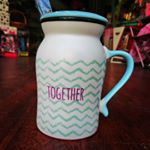cups: (33, 8, 138, 146)
